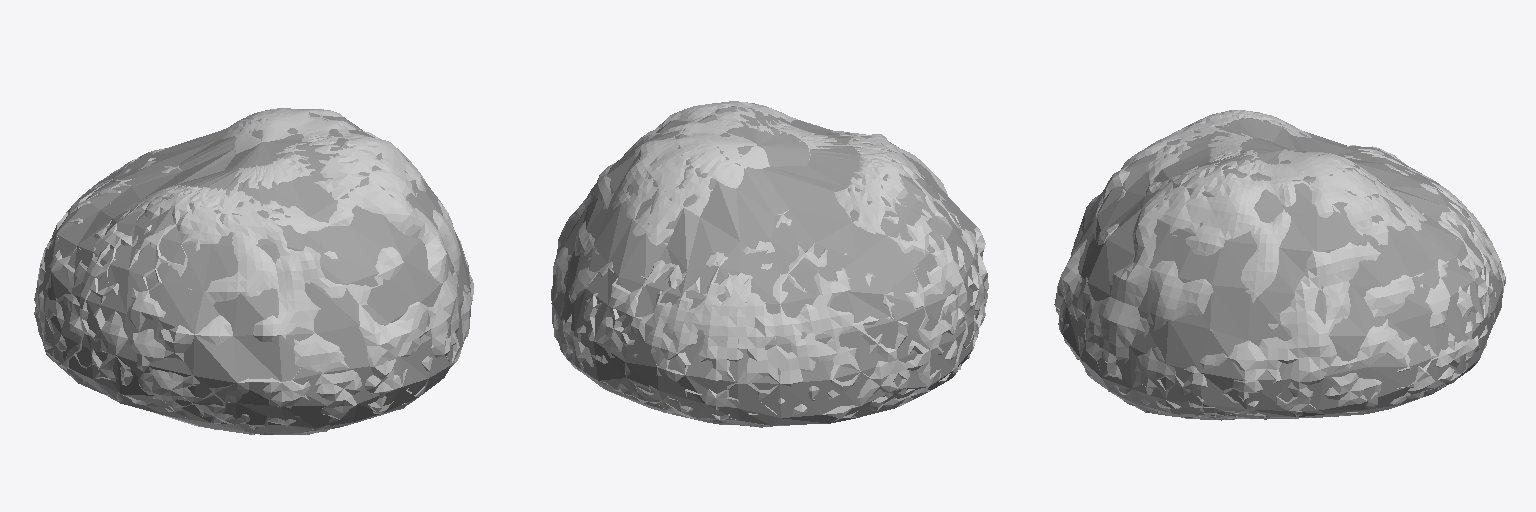
The model's file is rock.obj.
3 views of the same model, side by side, from view 1: azimuth 30°, elevation 25°; view 2: azimuth 150°, elevation 25°; view 3: azimuth 270°, elevation 25° (orthographic).
Parts seen in each view (by area): view 1: Sphere_Sphere.001, res_stone_Sphere; view 2: Sphere_Sphere.001, res_stone_Sphere; view 3: res_stone_Sphere, Sphere_Sphere.001.
Boxes of the visible parts, x1,y1,x2,y2 form: Sphere_Sphere.001: [38, 110, 470, 434]; res_stone_Sphere: [34, 108, 473, 434]; Sphere_Sphere.001: [552, 103, 985, 426]; res_stone_Sphere: [551, 101, 988, 427]; res_stone_Sphere: [1054, 110, 1505, 420]; Sphere_Sphere.001: [1062, 112, 1503, 419].
Bounding box in the file's own units: 6.89 × 3.97 × 6.98.